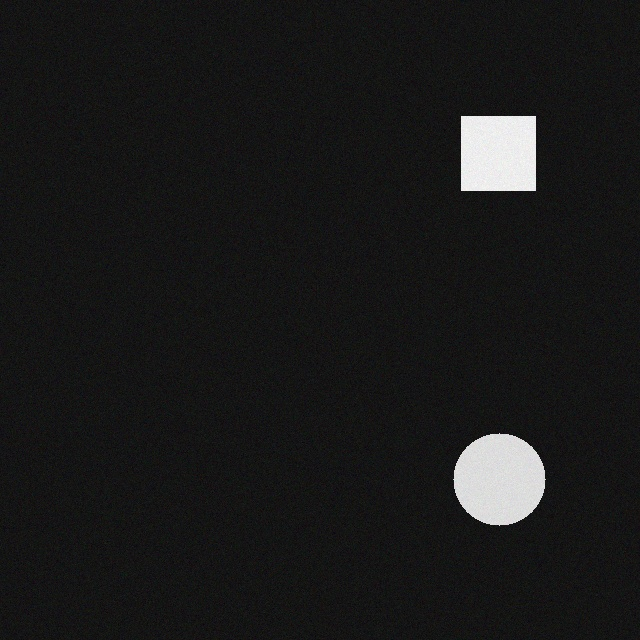circle: (440, 437, 532, 529)
square: (448, 120, 522, 194)
